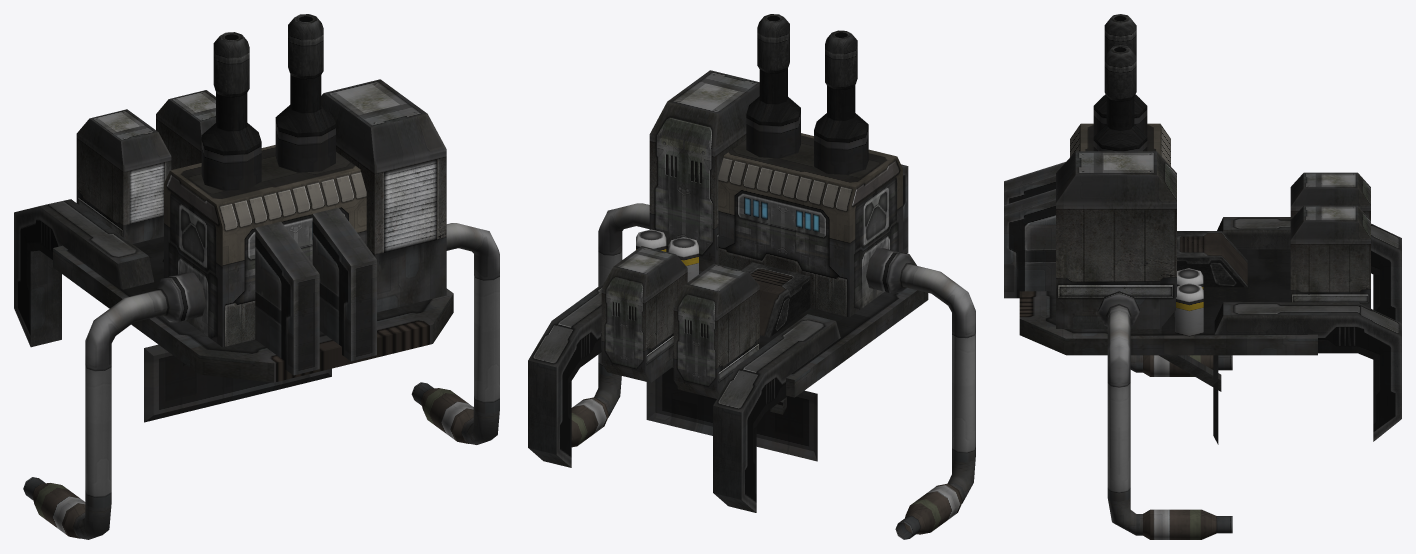
The model's file is ledge_building2.fbx.
The picture shows the model from 3 angles, left to right: view 1: azimuth 30°, elevation 25°; view 2: azimuth 150°, elevation 25°; view 3: azimuth 270°, elevation 25°; orthographic projection. The views are drawn at different scales.
Parts seen in each view (by area): view 1: polySurface1; view 2: polySurface1; view 3: polySurface1.
Boxes of the visible parts, <box> form: polySurface1: <box>14,14,499,539</box>; polySurface1: <box>528,14,975,539</box>; polySurface1: <box>1004,14,1401,539</box>.
Bounding box in the file's own units: 8.29 × 9.06 × 7.89.
1 material, 1 textured.
